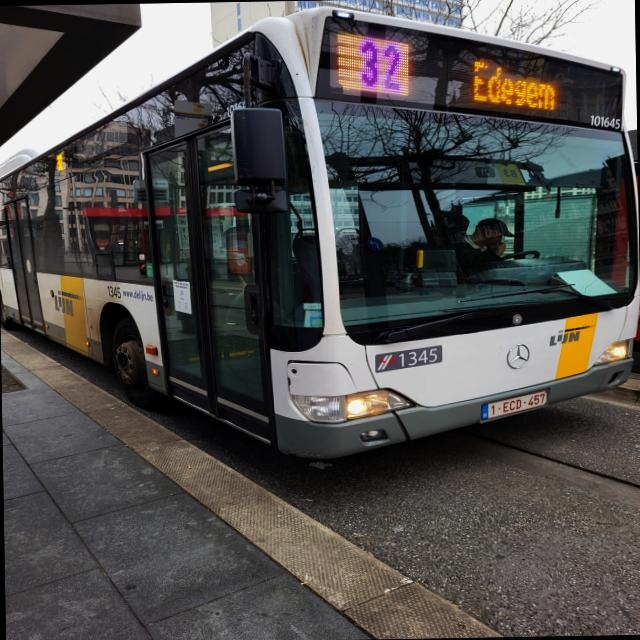bus-number: (340, 39, 410, 94)
